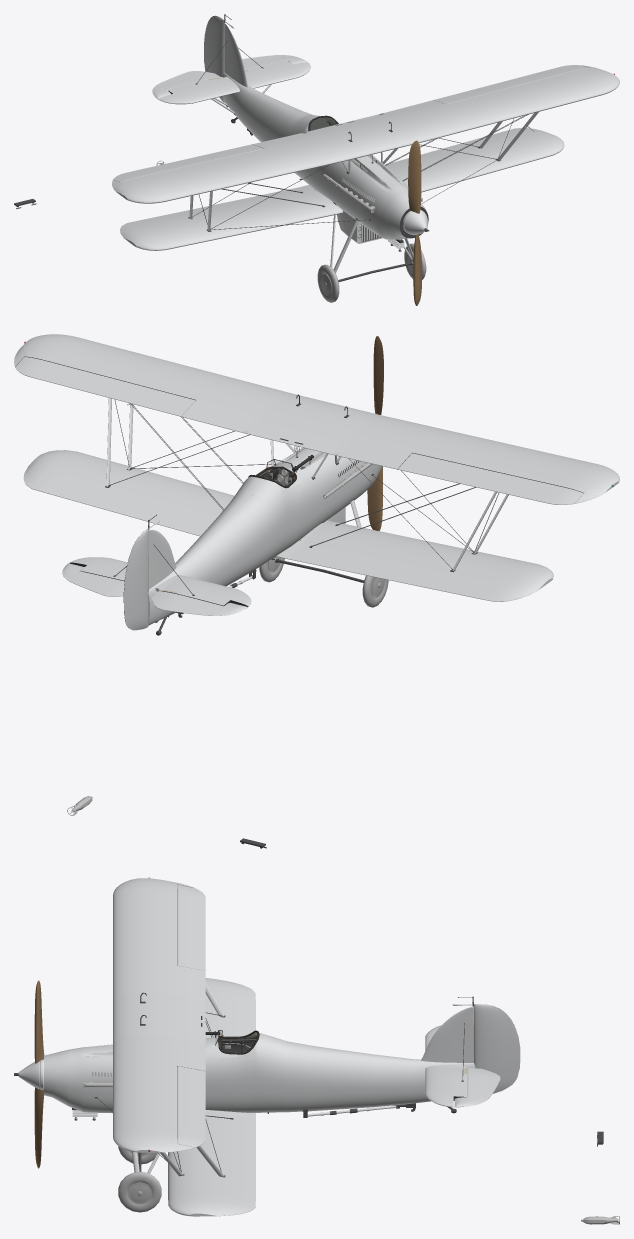
Rendered from nimrod.fbx.
3 renders of one model, top to bottom at view 1: azimuth 30°, elevation 25°; view 2: azimuth 150°, elevation 25°; view 3: azimuth 270°, elevation 25°, orthographic. The views are drawn at different scales.
Visible parts, largest first — view 1: wing_upper_R, wing_upper_L, wing_lower_R, fus_engine, wing_lower_L, wing_upper_C, fus_rear, stab_R, rudder, stab_L, aileron_L, aileron_R (+11 smaller); view 2: wing_lower_R, wing_upper_R, wing_lower_L, wing_upper_L, fus_rear, wing_upper_C, fus_center, aileron_L, aileron_R, fus_engine, rudder, stab_R (+8 smaller); view 3: wing_upper_L, wing_upper_R, fus_rear, wing_lower_L, fus_center, fus_engine, wing_upper_C, rudder, wing_lower_R, aileron_R, aileron_L, fin (+6 smaller).
Part boxes in pixels (x1,y1,x2,y2): wing_upper_R: (112, 132, 345, 203); wing_upper_L: (381, 65, 619, 142); wing_lower_R: (120, 187, 338, 250); fus_engine: (323, 154, 428, 251); wing_lower_L: (385, 128, 564, 192); wing_upper_C: (305, 114, 421, 160); fus_rear: (222, 72, 313, 141); stab_R: (158, 78, 237, 104); rudder: (204, 15, 224, 101); stab_L: (245, 60, 310, 88); aileron_L: (434, 65, 588, 104); aileron_R: (113, 144, 263, 182); wing_lower_R: (288, 521, 553, 601); wing_upper_R: (335, 415, 619, 503); wing_lower_L: (23, 450, 234, 536); wing_upper_L: (14, 334, 290, 432); fus_rear: (148, 497, 269, 625); wing_upper_C: (244, 393, 381, 455); fus_center: (230, 459, 321, 564); aileron_L: (15, 357, 194, 416); aileron_R: (398, 454, 582, 504); fus_engine: (278, 447, 382, 525); rudder: (123, 528, 148, 630); stab_R: (162, 575, 251, 606); wing_upper_L: (113, 1035, 205, 1152); wing_upper_R: (113, 878, 205, 1000); fus_rear: (287, 1041, 475, 1112); wing_lower_L: (168, 1111, 255, 1216); fus_center: (205, 1032, 287, 1112); fus_engine: (44, 1044, 112, 1120); wing_upper_C: (113, 992, 205, 1043); rudder: (473, 1004, 520, 1093); wing_lower_R: (205, 978, 255, 1038); aileron_R: (178, 885, 205, 970); aileron_L: (178, 1066, 205, 1147); fin: (421, 1007, 473, 1062).
Bounding box in the file's own units: 10.32 × 4.28 × 9.67.
